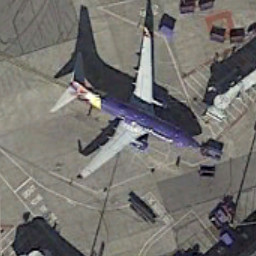Airplane: (46, 23, 209, 182)
